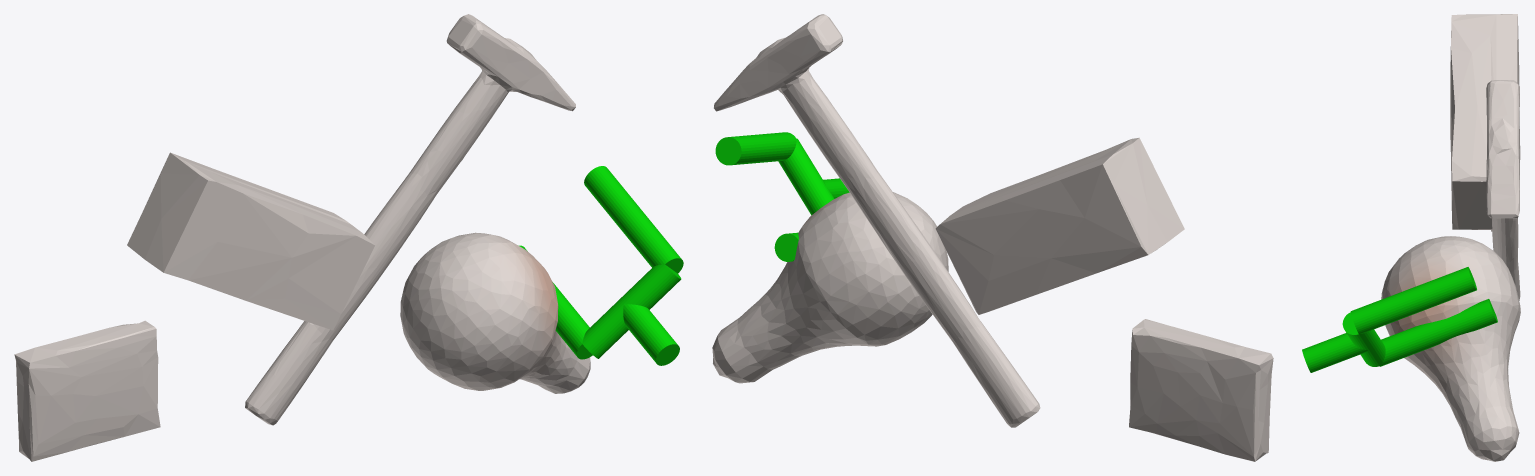
The model's file is round_000_trial_000.obj.
The picture shows the model from 3 angles, left to right: view 1: azimuth 30°, elevation 25°; view 2: azimuth 150°, elevation 25°; view 3: azimuth 270°, elevation 25°; orthographic projection. The views are drawn at different scales.
Parts seen in each view (by area): view 1: geometry_0, geometry_1; view 2: geometry_0, geometry_1; view 3: geometry_0, geometry_1.
Part boxes in pixels (bbox=[...]): geometry_0: bbox=[14, 14, 590, 461]; geometry_1: bbox=[519, 166, 683, 365]; geometry_0: bbox=[712, 14, 1273, 461]; geometry_1: bbox=[715, 132, 849, 261]; geometry_0: bbox=[1381, 14, 1520, 461]; geometry_1: bbox=[1302, 267, 1497, 372].
Bounding box in the file's own units: 0.2343 × 0.1502 × 0.0867.
